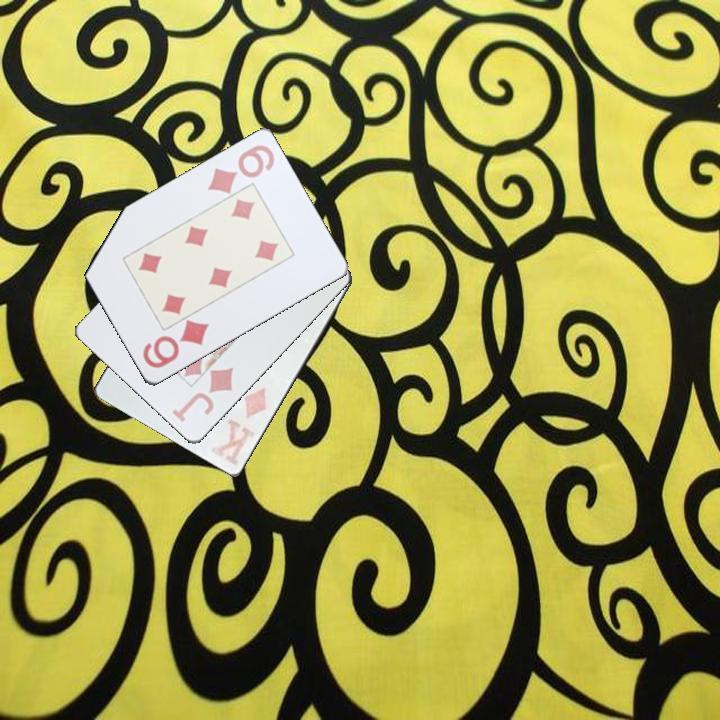6d: (204, 141, 278, 197), (139, 317, 213, 372)
Jd: (169, 364, 237, 426)
Kd: (207, 384, 272, 469)
